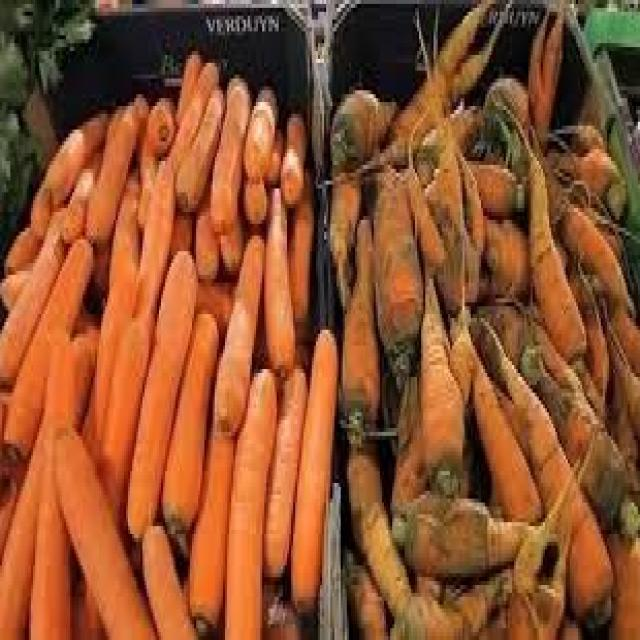organic waste: (483, 318, 613, 628), (0, 330, 93, 636), (47, 412, 157, 636), (537, 318, 636, 538), (124, 247, 194, 534), (2, 232, 89, 459), (390, 0, 508, 165), (405, 86, 485, 302), (489, 436, 572, 636), (516, 118, 584, 361), (460, 318, 541, 514), (221, 361, 277, 636), (87, 161, 136, 475), (574, 55, 638, 283), (343, 432, 415, 632), (161, 302, 217, 530), (291, 326, 335, 612), (0, 204, 70, 381), (417, 267, 471, 487), (29, 338, 68, 636), (97, 302, 145, 542), (370, 145, 419, 377), (334, 200, 382, 436), (398, 487, 526, 569), (213, 224, 260, 432), (186, 408, 229, 632), (555, 197, 638, 310), (262, 361, 306, 573), (85, 90, 140, 244), (29, 110, 111, 204), (388, 577, 518, 636), (388, 365, 434, 530), (326, 78, 403, 165), (522, 4, 568, 141), (138, 518, 192, 632), (173, 83, 221, 208), (169, 55, 223, 165), (210, 74, 248, 228), (132, 157, 169, 314), (264, 173, 293, 365), (562, 137, 630, 212), (574, 252, 607, 404), (324, 161, 361, 294), (481, 205, 531, 302), (605, 507, 638, 636), (605, 361, 638, 487), (287, 165, 312, 330), (345, 542, 388, 636), (609, 330, 638, 459), (60, 153, 101, 240), (471, 149, 524, 216), (242, 78, 278, 172), (483, 70, 533, 130), (278, 102, 306, 204), (260, 569, 297, 636), (190, 271, 233, 326), (176, 47, 204, 126), (0, 220, 41, 271), (192, 188, 217, 271), (580, 204, 622, 251), (144, 90, 174, 153), (130, 87, 151, 153), (242, 165, 266, 216), (262, 121, 281, 180), (31, 184, 50, 240)
